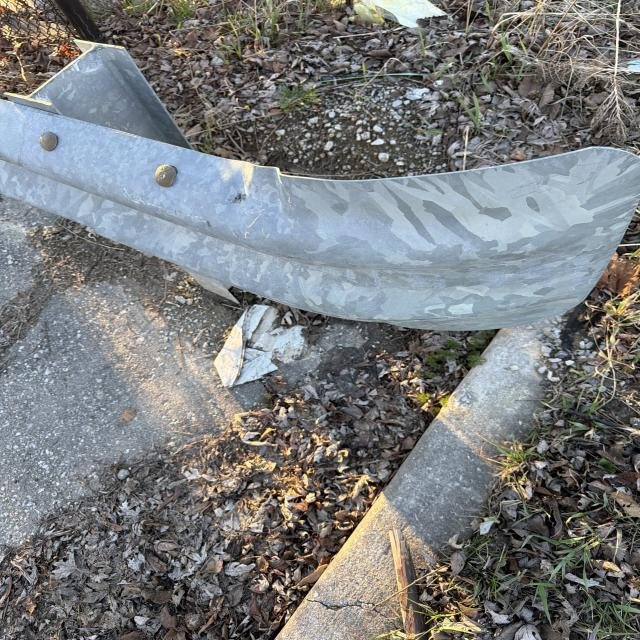Guard rail: (1, 82, 583, 308)
